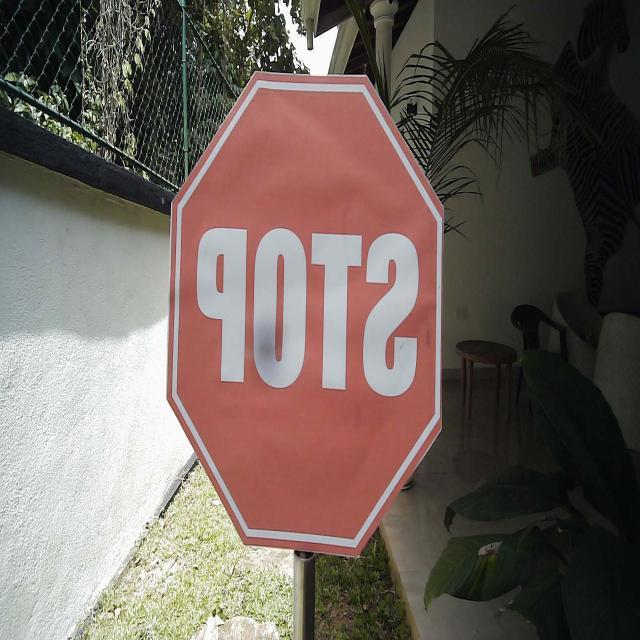stop: (164, 69, 446, 562)
